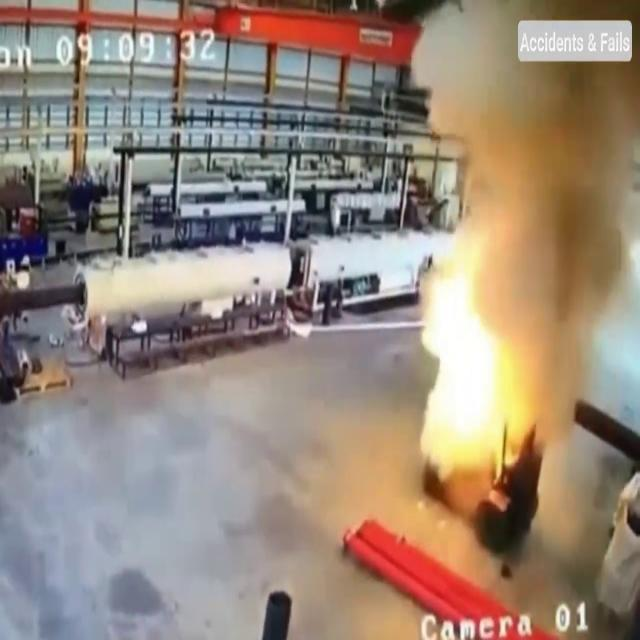Fire: (413, 226, 527, 482)
Smoke: (394, 0, 640, 367)
